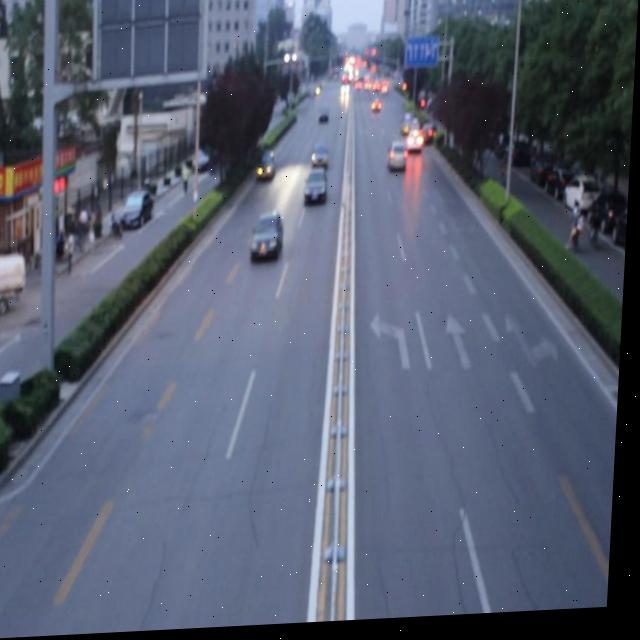car: (253, 213, 287, 266), (306, 170, 329, 207), (257, 154, 278, 186)
